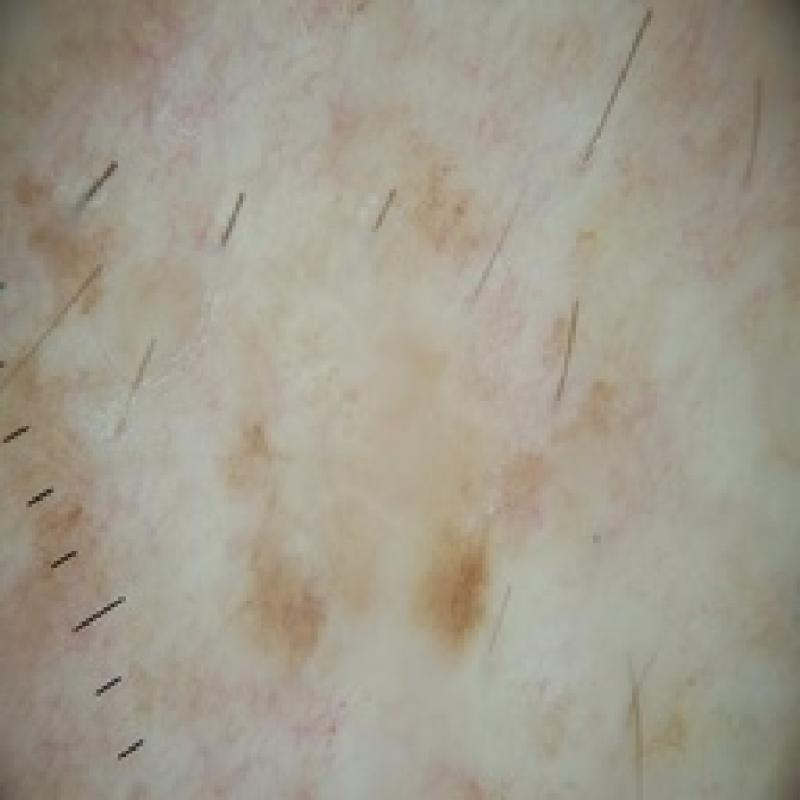malignant: (203, 400, 368, 681), (408, 468, 522, 671)
